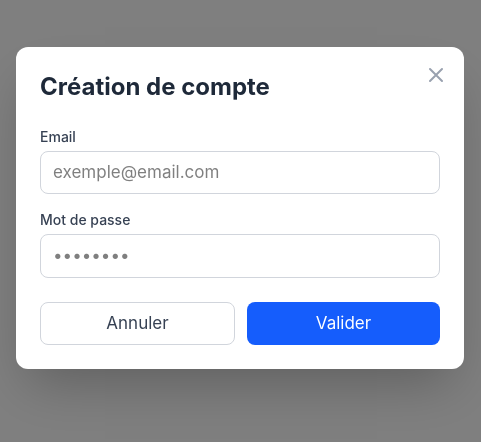
Test: RegisterModal › affiche un message d'erreur lors d'un échec de création de compte
This screenshot has width=481, height=442.
In the field labelled "Email": (240, 173) [40,151,440,194], type "test@example.com"
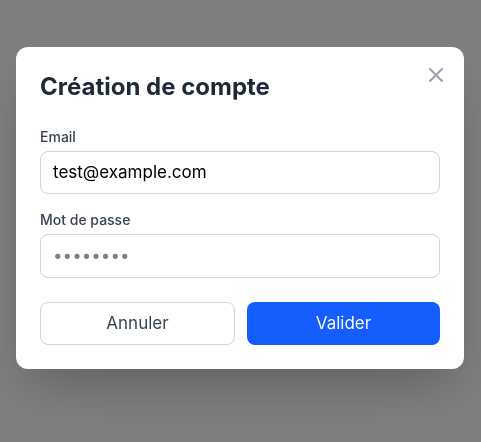
In the password field labelled "Mot de passe": (240, 256) [40,234,440,278], type "password123"
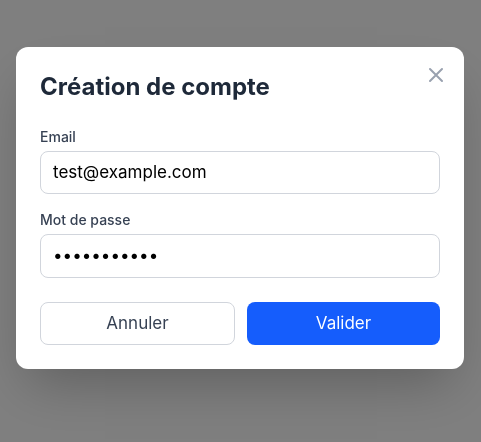
Submit the form, box [40,127,440,345]
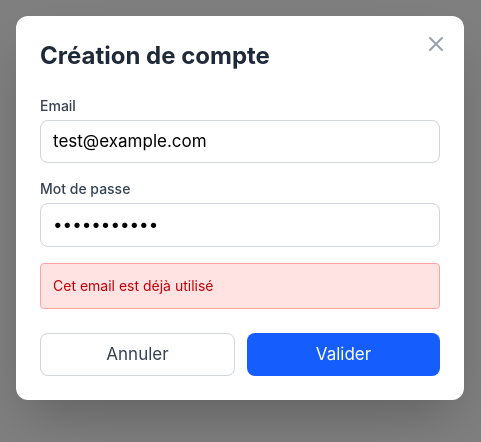
Result: the text "Cet email est déjà utilisé" is shown at [40,263,440,309]
